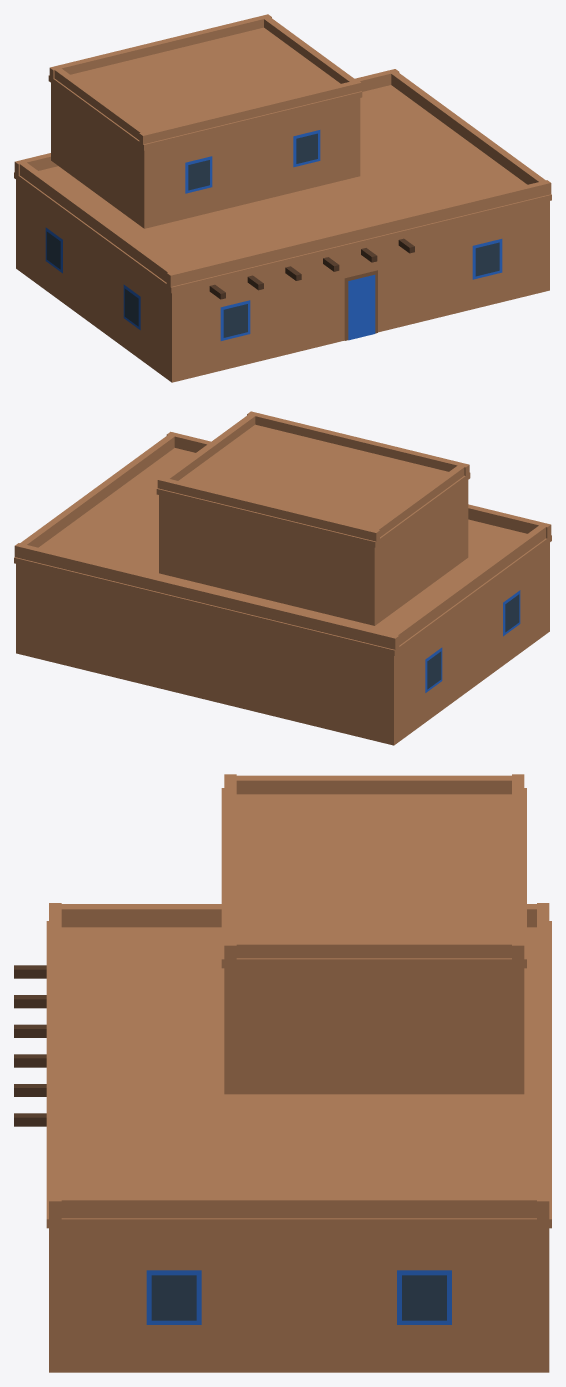
File: pueblo_adobe.glb
3 renders of one model, top to bottom at view 1: azimuth 30°, elevation 25°; view 2: azimuth 150°, elevation 25°; view 3: azimuth 270°, elevation 25°, orthographic. The views are drawn at different scales.
Visible parts, largest first — view 1: pueblo_adobe; view 2: pueblo_adobe; view 3: pueblo_adobe.
Part boxes in pixels (x1,y1,x2,y2): pueblo_adobe: (14,14,551,382); pueblo_adobe: (14,411,551,745); pueblo_adobe: (14,774,551,1372).
Size of the model in its own units: 14.1 by 7.1 by 10.75.
Materials: 1 (1 with a texture image).
